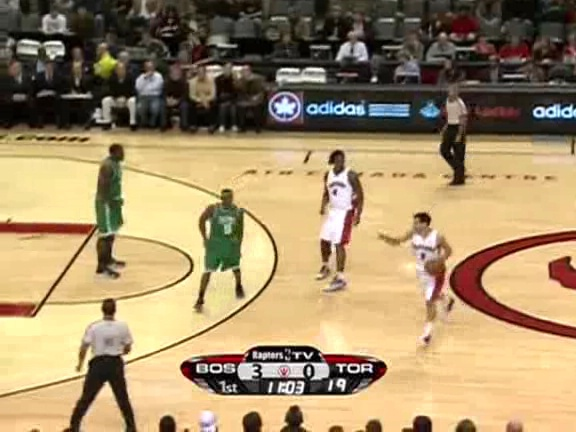person: (209, 202, 243, 283), (208, 202, 242, 283), (210, 202, 244, 283), (209, 201, 243, 282), (209, 203, 243, 284)
target_negative: (45, 126, 208, 287), (233, 36, 442, 132), (393, 174, 493, 348), (369, 152, 402, 251), (541, 89, 559, 223), (163, 359, 433, 364)
